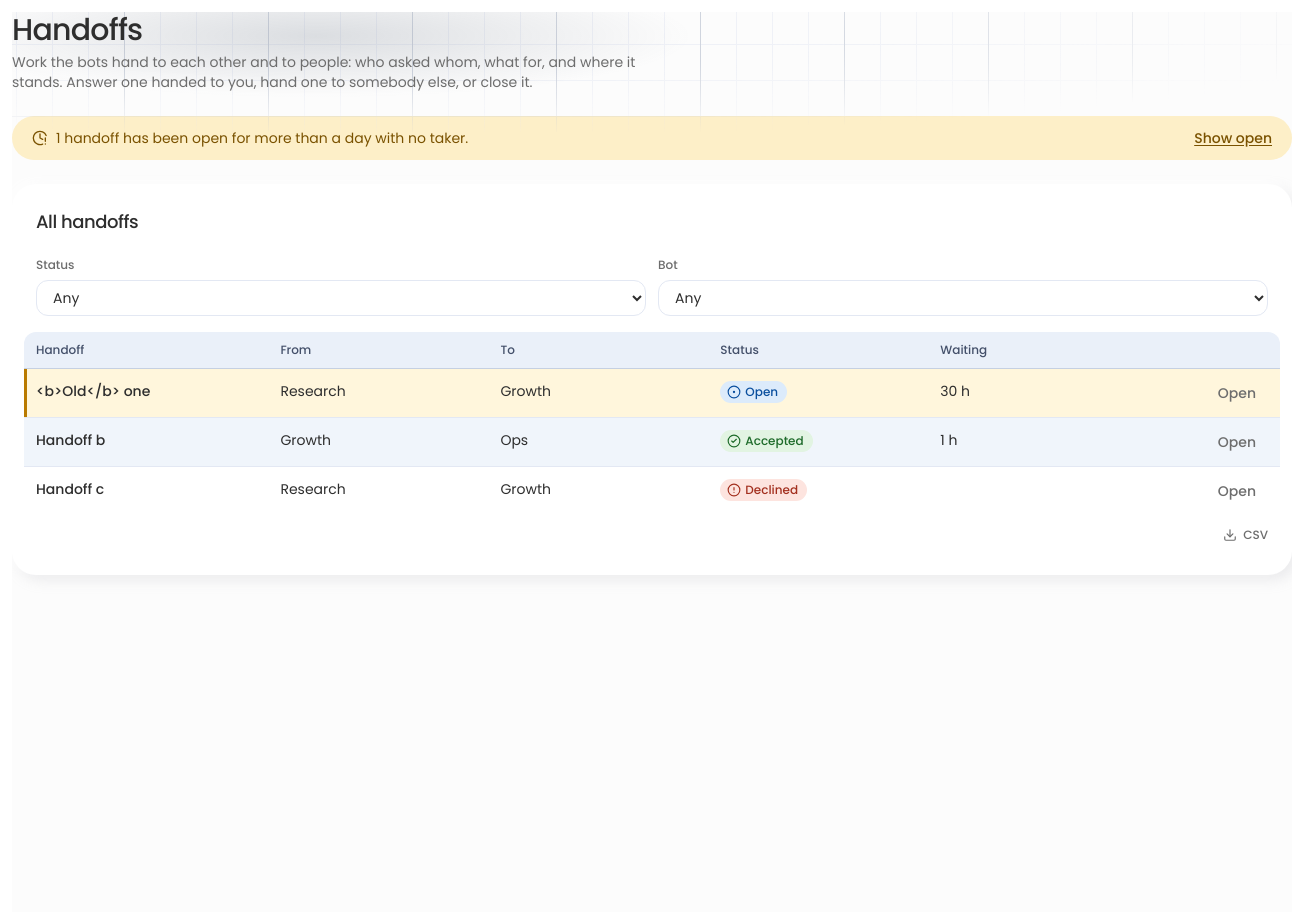
it: the handoffs page › a teammate with the board may reassign one but is not offered closing it: that is the owner's
The image size is (1292, 912).
Click the button with aria-label "Open Handoff b" at point(1237, 442), box [1206, 424, 1268, 460]
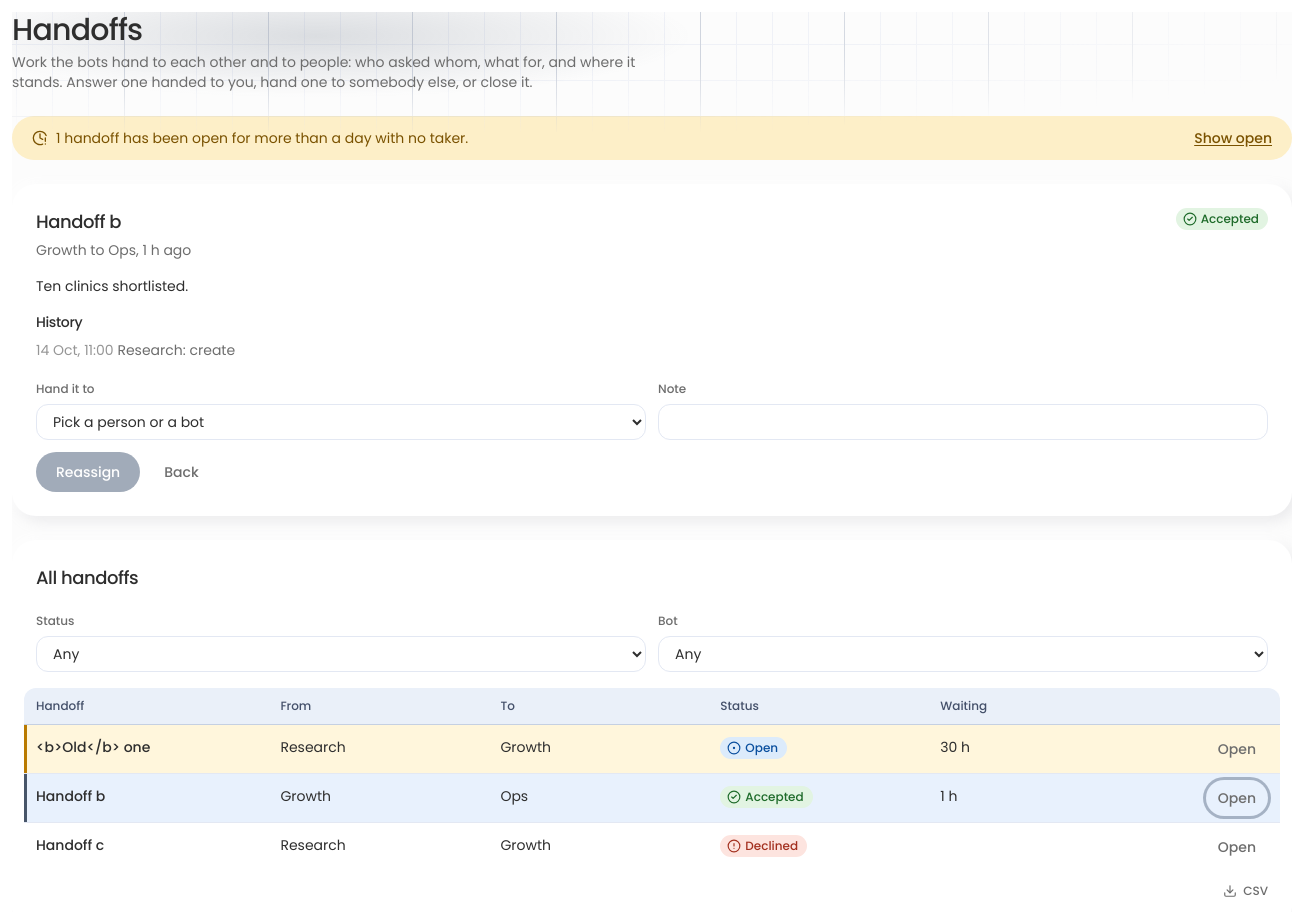
Result: the button "Reassign" is shown at [36, 452, 140, 492]
